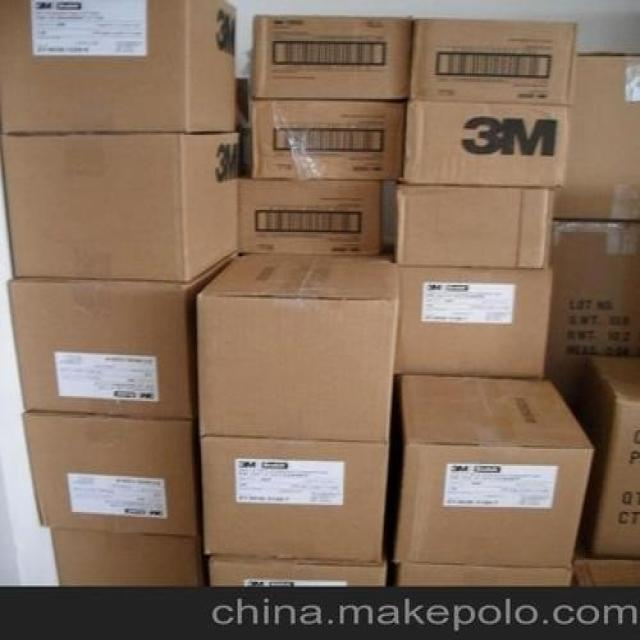box: (8, 249, 239, 420), (390, 375, 595, 567), (197, 253, 399, 440), (201, 435, 388, 563), (22, 415, 202, 539), (544, 220, 640, 418), (394, 266, 552, 377), (410, 17, 576, 106), (553, 53, 640, 220), (403, 101, 568, 188), (250, 15, 412, 99), (396, 183, 553, 268), (575, 355, 640, 560), (251, 101, 407, 179), (238, 179, 381, 253), (50, 529, 205, 587), (210, 555, 387, 585)
